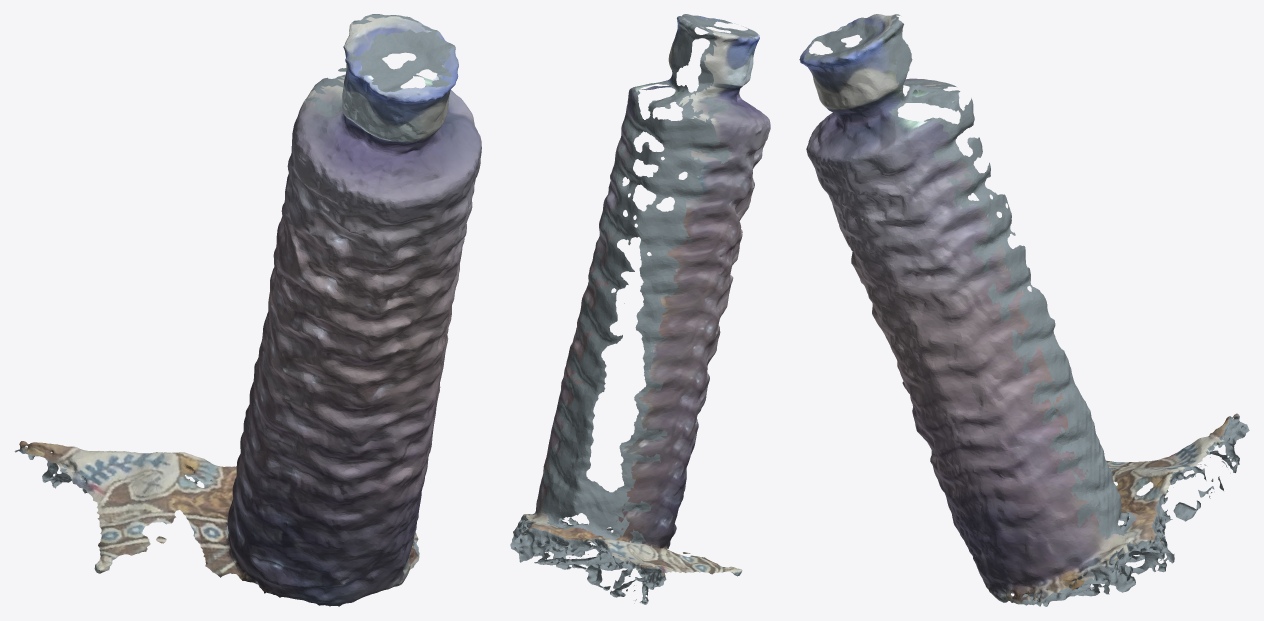
File: Demo_textured_mesh_medpoly_glb-v1.glb
3 views of the same model, side by side, from view 1: azimuth 30°, elevation 25°; view 2: azimuth 150°, elevation 25°; view 3: azimuth 270°, elevation 25° (orthographic). The views are drawn at different scales.
Bounding box in the file's own units: 1.05 × 2.14 × 1.61.
Materials: 13 (13 with a texture image).
